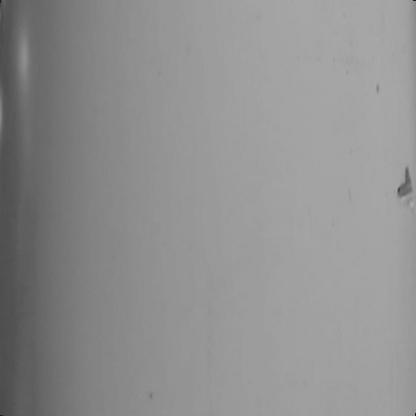sunshang: (396, 161, 416, 216)
